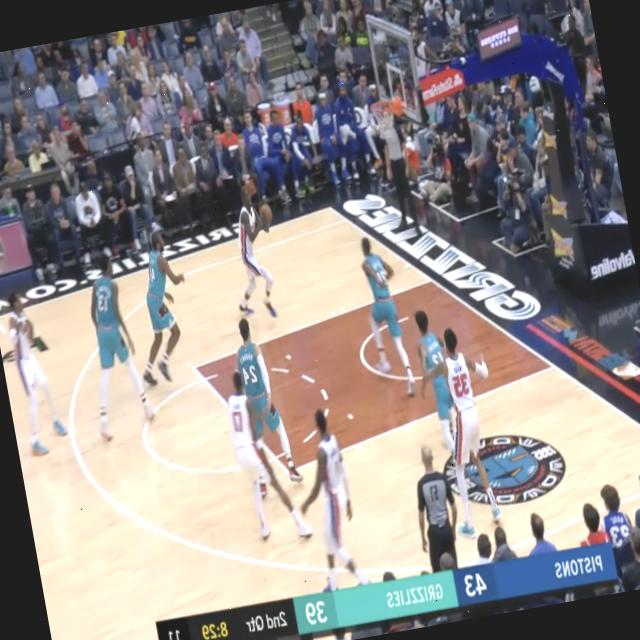no foul: (56, 210, 214, 450), (202, 309, 316, 549), (415, 290, 518, 540)
